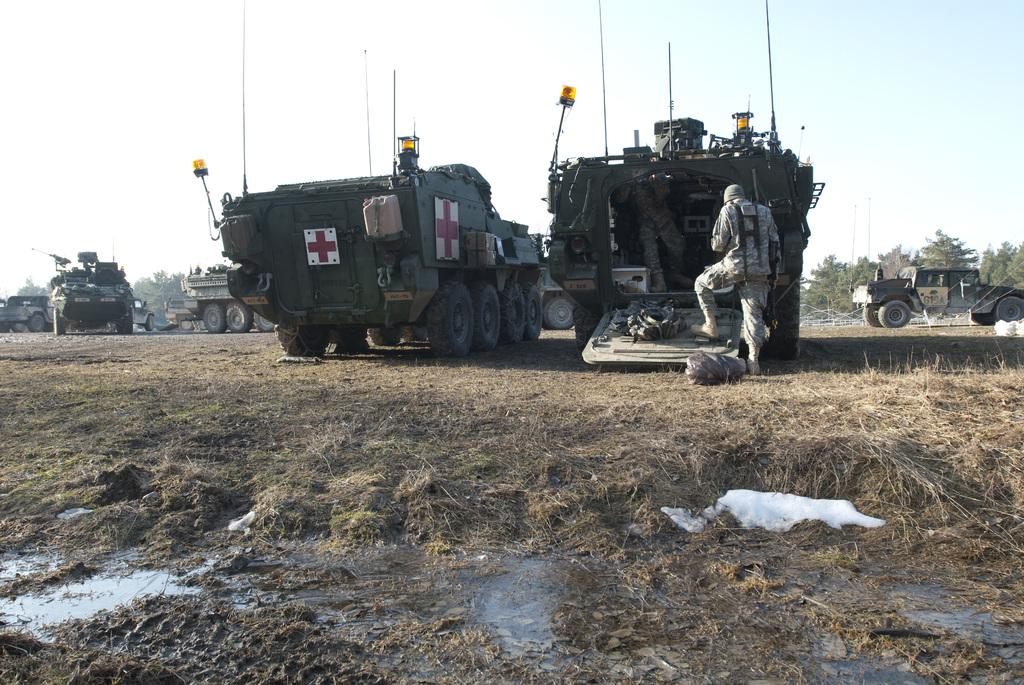non-violence: (695, 183, 780, 373), (614, 181, 694, 287)
weapon: (769, 242, 780, 333)
